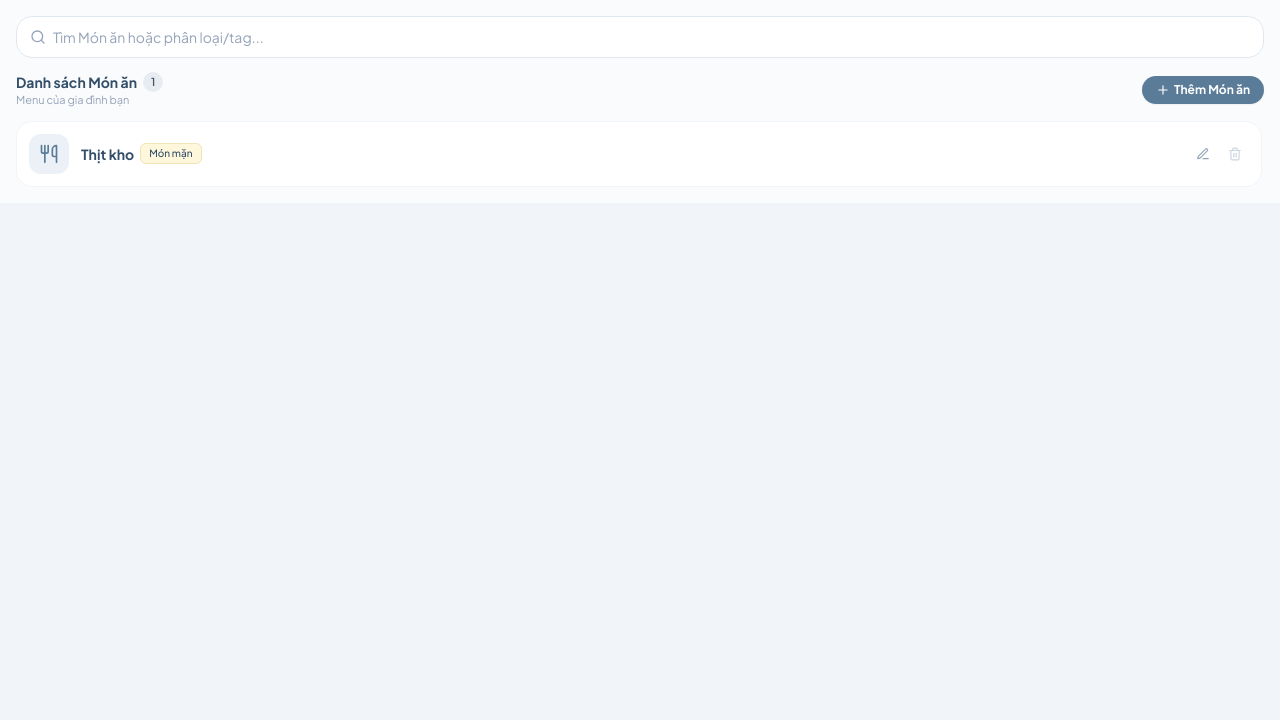
Test: Menu / Dish Management Integration › allows user to edit an existing Món ăn
Check: the heading "Thịt kho" is shown, box x1=81 y1=144 x2=134 y2=164
// Click edit button
Click the button named "Chỉnh sửa Món ăn". click: (1203, 154)
box: x1=1189 y1=140 x2=1217 y2=168
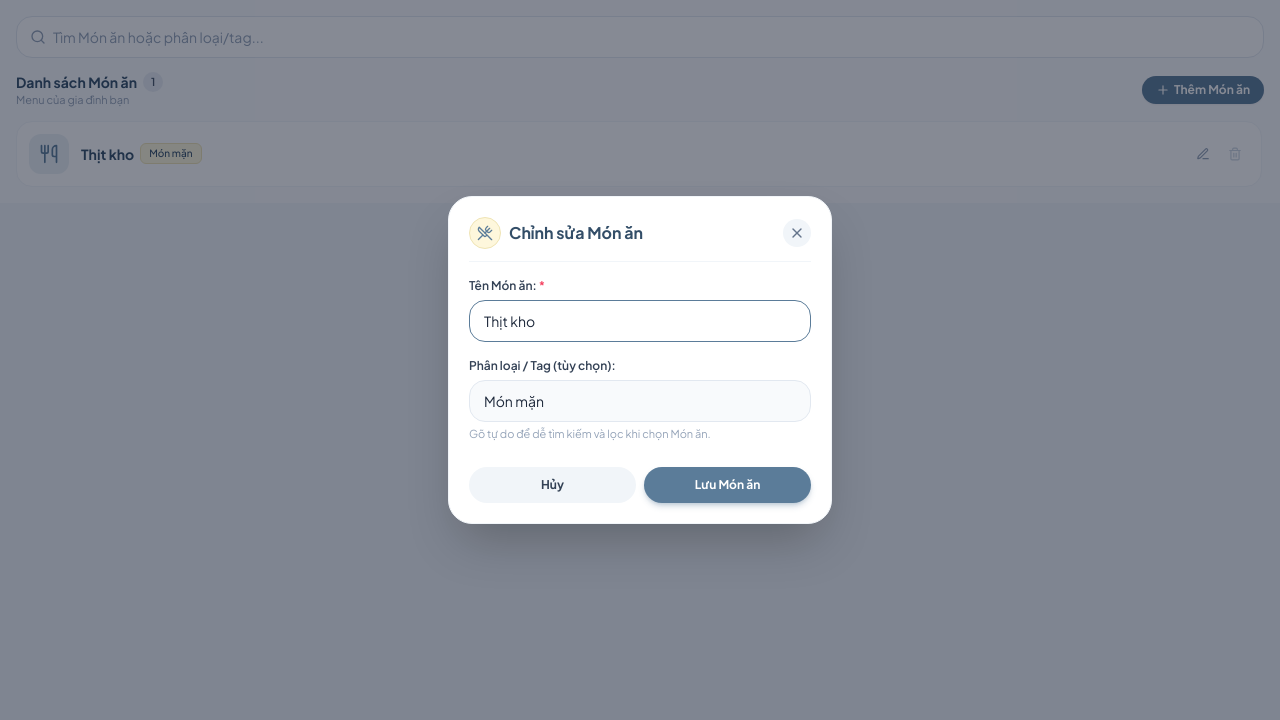
Check: the heading "Chỉnh sửa Món ăn" is shown, box x1=509 y1=221 x2=643 y2=245
Check: the field with test id "dish-name-input" holds "Thịt kho"
Check: the field with test id "dish-tag-input" holds "Món mặn", box x1=469 y1=380 x2=811 y2=422
Replace the text in the field with test id "dish-name-input" with "Thịt kho trứng vịt". click: (640, 321)
box: x1=469 y1=300 x2=811 y2=342
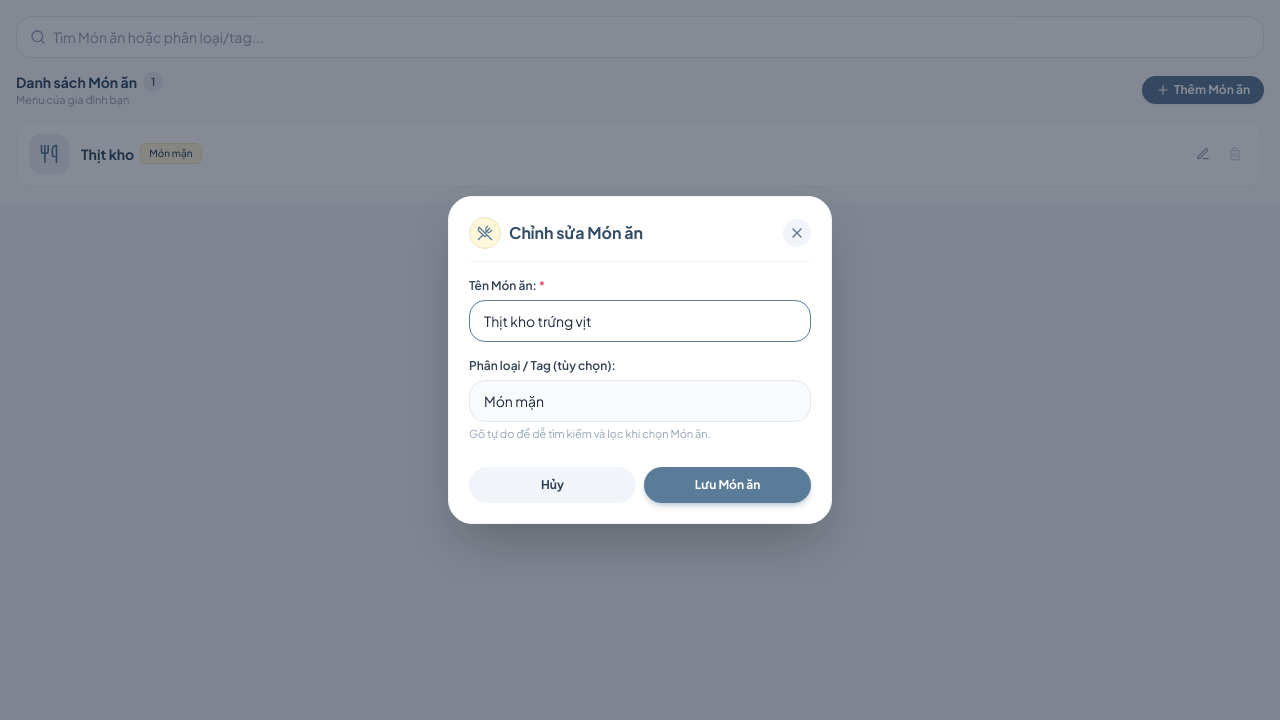
Replace the text in the field with test id "dish-tag-input" with "Món chính". click: (640, 401)
box: x1=469 y1=380 x2=811 y2=422
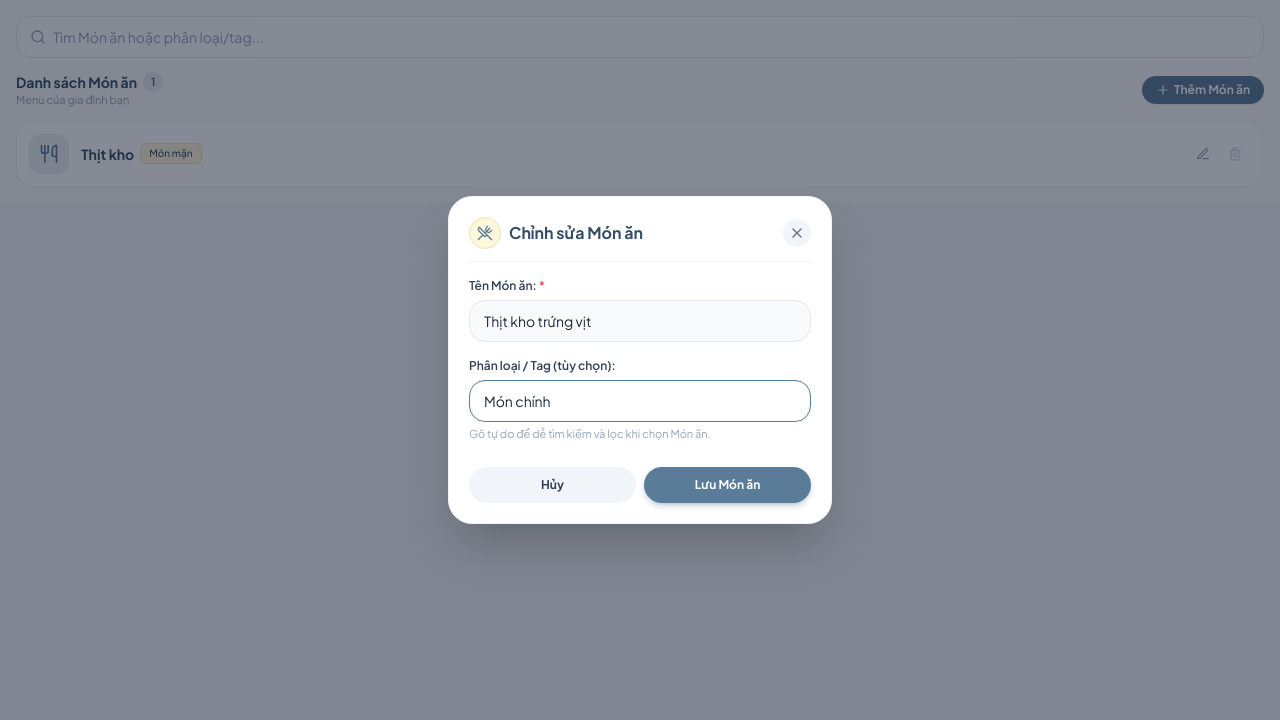
Click the button with test id "save-dish-btn". click: (728, 485)
box: x1=644 y1=467 x2=811 y2=503
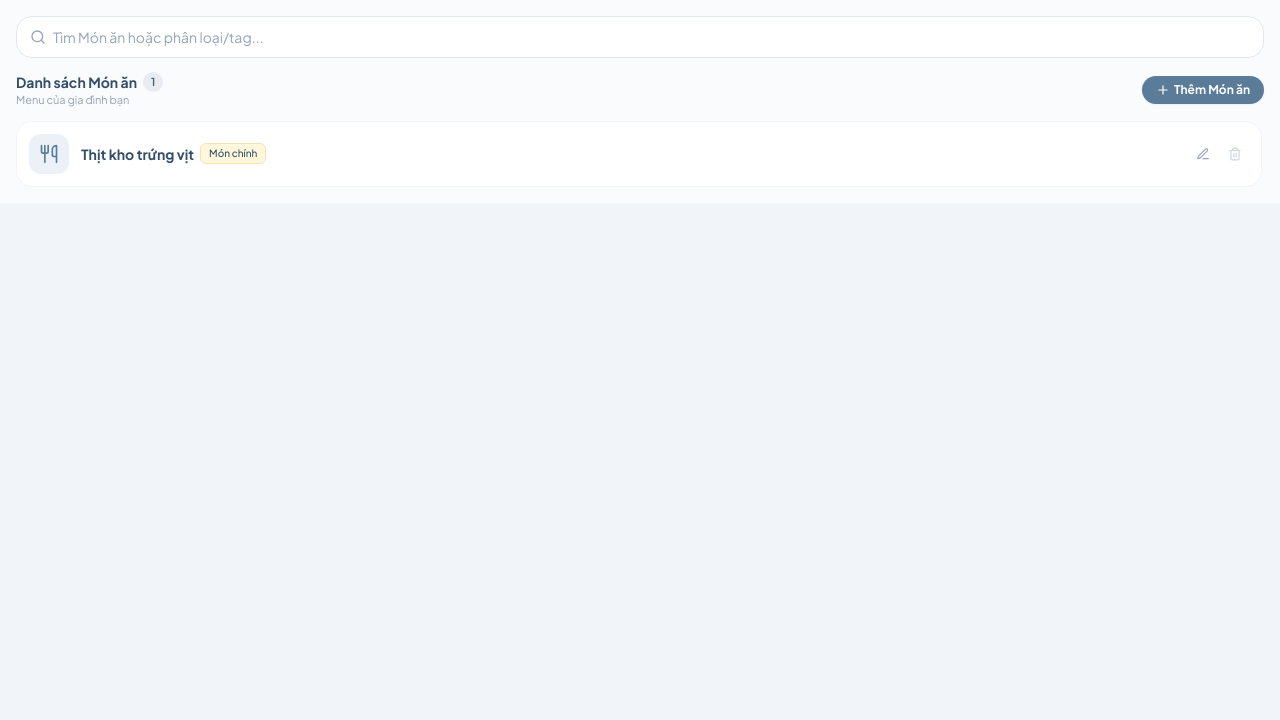
Check: the heading "Thịt kho trứng vịt" is shown, box x1=81 y1=144 x2=194 y2=164
Check: the text "Món chính" is shown, box x1=200 y1=143 x2=266 y2=164
